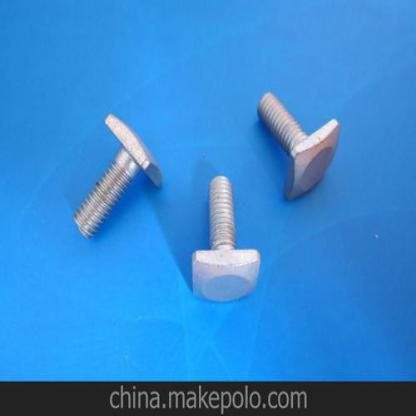FOD: (69, 112, 163, 240), (189, 174, 261, 306), (258, 90, 342, 202)
